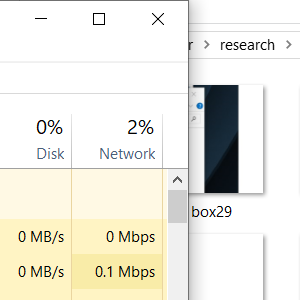close: (142, 5, 172, 34)
